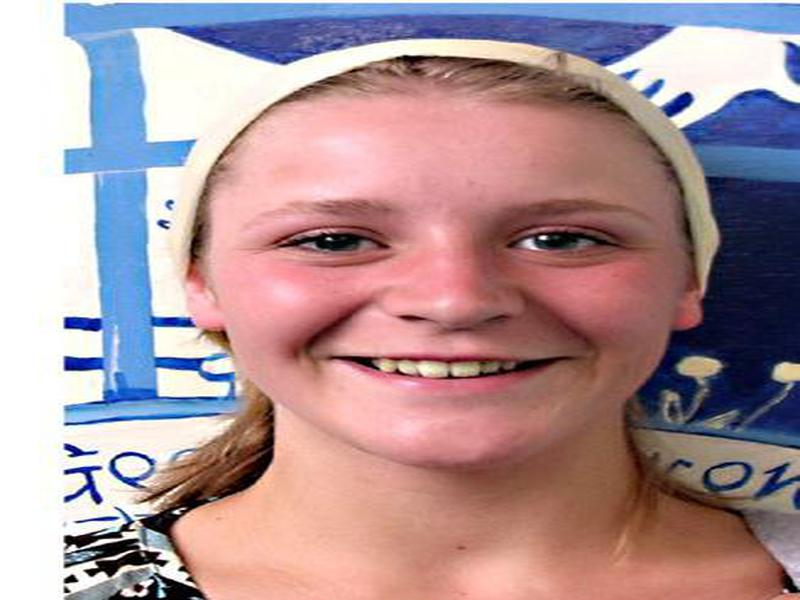without_mask: (210, 114, 678, 467)
